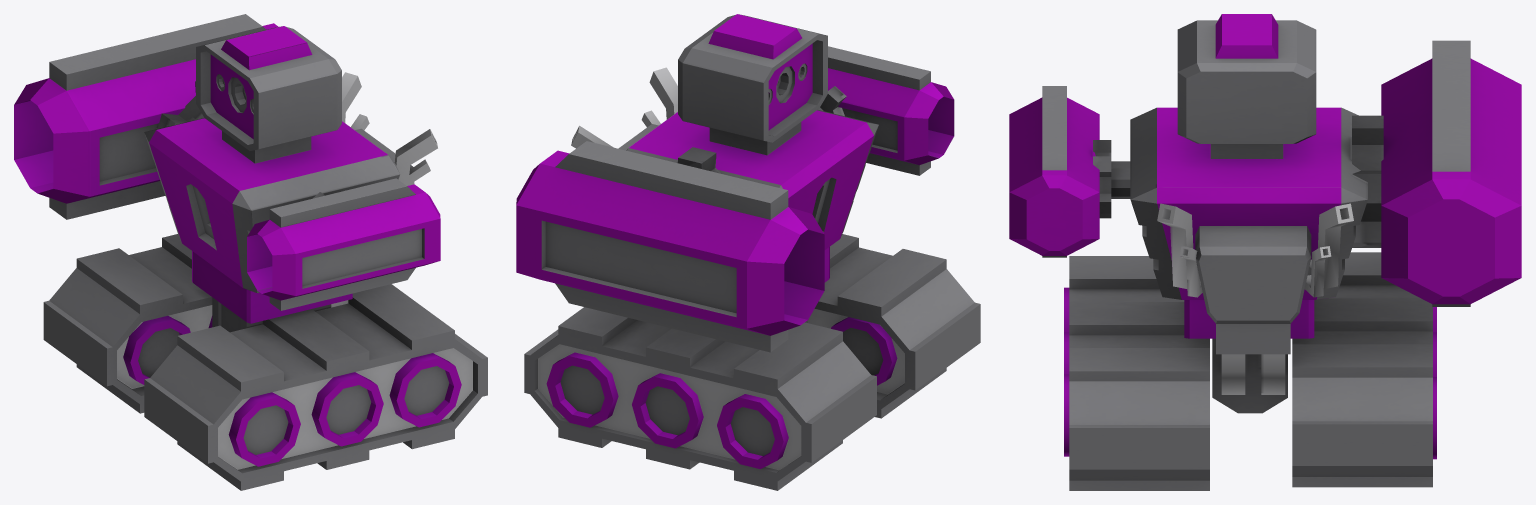
File: Enemy2_Move7.obj
3 views of the same model, side by side, from view 1: azimuth 30°, elevation 25°; view 2: azimuth 150°, elevation 25°; view 3: azimuth 270°, elevation 25° (orthographic). The views are drawn at different scales.
Parts seen in each view (by area): view 1: Object006, Object007, Object010, Object009; view 2: Object006, Object007, Object010, Object009; view 3: Object006, Object007, Object010, Object009, Object008.
Boxes of the visible parts, left/top/right/bottom form: Object006: left=14, top=14, right=487, bottom=490; Object007: left=144, top=26, right=400, bottom=332; Object010: left=331, top=72, right=437, bottom=307; Object009: left=156, top=81, right=204, bottom=128; Object006: left=516, top=46, right=980, bottom=490; Object007: left=626, top=14, right=878, bottom=322; Object010: left=571, top=67, right=677, bottom=150; Object009: left=677, top=147, right=721, bottom=173; Object006: left=1009, top=40, right=1521, bottom=490; Object007: left=1130, top=14, right=1367, bottom=413; Object010: left=1157, top=203, right=1353, bottom=394; Object009: left=1352, top=115, right=1383, bottom=247; Object008: left=1093, top=140, right=1130, bottom=218.
Size of the model in its own units: 87.45 by 109 by 125.
